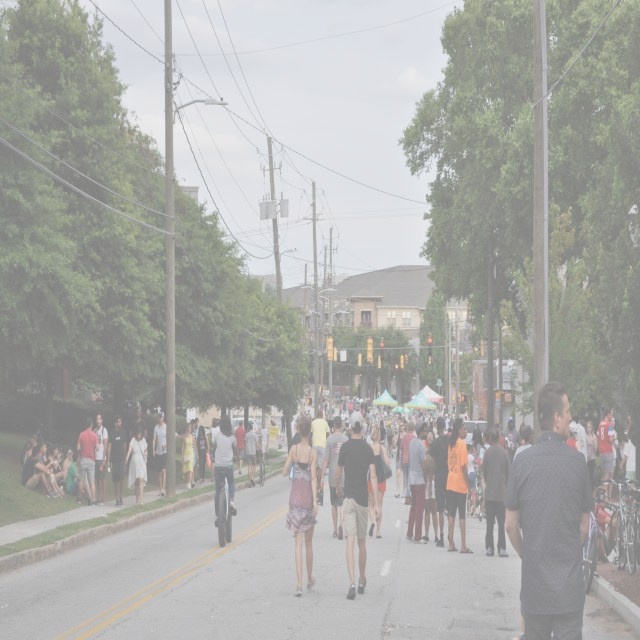pessoa: (501, 380, 595, 639), (334, 409, 382, 602), (281, 414, 321, 600), (444, 416, 474, 554), (426, 414, 456, 548), (482, 424, 511, 560), (320, 415, 349, 541), (210, 414, 242, 528), (404, 418, 429, 546), (367, 426, 392, 539), (592, 485, 624, 562), (483, 423, 508, 519), (20, 444, 59, 500), (308, 408, 330, 499), (106, 413, 127, 508), (124, 425, 148, 508), (76, 416, 98, 506), (422, 429, 439, 544), (596, 406, 616, 494), (36, 442, 66, 499), (92, 412, 109, 506), (66, 451, 96, 504), (399, 420, 417, 506), (476, 430, 492, 522), (243, 420, 264, 488), (180, 422, 200, 490), (152, 410, 167, 498), (62, 447, 88, 494), (620, 424, 636, 500), (591, 502, 610, 564), (392, 421, 407, 499), (466, 438, 480, 518), (608, 416, 620, 504), (502, 416, 522, 468), (194, 424, 211, 484), (512, 424, 536, 462), (406, 403, 454, 422), (184, 419, 197, 488), (586, 420, 598, 493), (47, 444, 67, 485), (572, 416, 588, 466), (291, 414, 313, 448), (234, 420, 246, 476), (210, 418, 220, 482), (371, 406, 406, 424), (129, 406, 147, 439), (246, 420, 256, 474), (260, 421, 270, 466), (566, 420, 580, 452), (614, 420, 630, 448), (194, 418, 200, 483), (472, 422, 482, 458), (24, 437, 36, 465), (386, 420, 394, 458), (516, 422, 526, 448), (366, 422, 376, 445), (254, 432, 261, 464), (378, 420, 386, 448), (385, 416, 393, 441), (623, 414, 633, 434), (363, 420, 372, 442), (280, 410, 287, 436), (342, 419, 351, 437), (578, 418, 588, 434), (290, 415, 296, 440), (392, 416, 400, 434), (428, 412, 436, 430), (322, 397, 330, 415), (339, 410, 346, 430), (176, 431, 190, 440), (378, 416, 386, 431), (495, 422, 503, 437), (303, 385, 311, 400), (444, 413, 450, 432), (273, 422, 281, 436), (364, 412, 372, 425), (352, 393, 360, 406), (344, 393, 350, 408), (347, 422, 352, 440), (333, 388, 338, 404), (348, 400, 353, 416), (338, 404, 344, 417), (463, 409, 469, 421), (346, 419, 350, 436), (332, 405, 336, 421), (342, 400, 347, 412), (364, 392, 368, 406), (318, 390, 321, 408), (478, 412, 484, 421), (324, 388, 328, 401), (337, 388, 341, 401), (306, 410, 312, 418), (346, 398, 352, 406), (361, 402, 364, 417), (332, 400, 336, 410), (326, 410, 330, 420), (359, 396, 364, 404), (364, 402, 368, 412), (450, 415, 454, 425), (216, 418, 221, 426), (351, 399, 355, 408), (353, 398, 356, 410), (368, 388, 372, 397), (269, 419, 274, 426), (182, 472, 186, 480), (330, 426, 332, 436), (301, 411, 304, 416), (346, 390, 348, 396), (312, 418, 315, 421)
